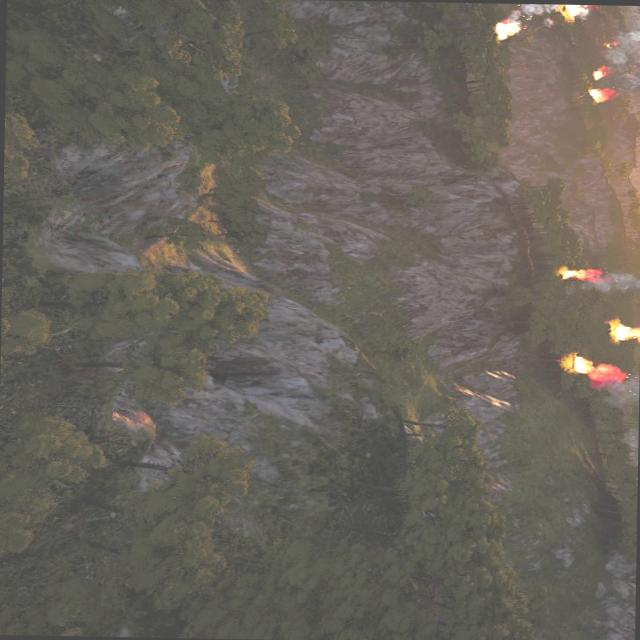fire: (560, 352, 628, 383), (608, 319, 640, 344), (555, 267, 598, 284), (584, 88, 616, 104), (558, 4, 589, 20), (493, 20, 517, 40), (590, 69, 606, 81), (600, 41, 612, 50)
smoke: (600, 27, 640, 85), (604, 378, 639, 422), (591, 271, 640, 295), (507, 3, 556, 27)
